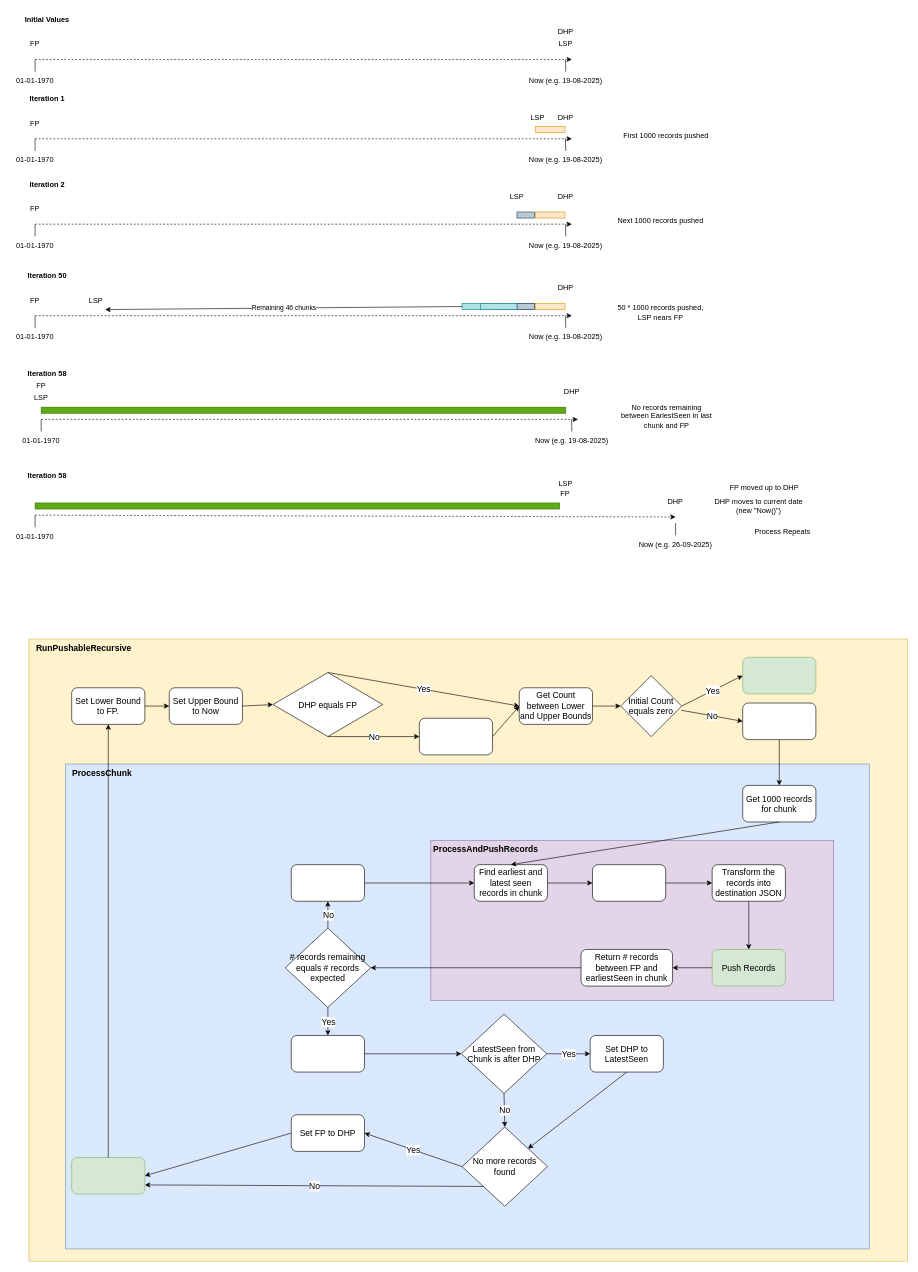
The diagram is 918 pixels wide and 1272 high, and some of its shapes have lost their labels. Each missing label, with the centre of its shape:
"Build a JSON map of the chunk to transform." goes at point 629,882.
"Finish: Return Pushable" goes at point 779,675.
"Get Records Missed at Earliest Seen date" goes at point 327,882.
"Set LSP to earliest seen from Chunk" goes at point 327,1053.
"Set up Push Chunk" goes at point 779,721.
"Set Upper Bound to LSP" goes at point 456,736.
"Update Pushable" goes at point 108,1175.
